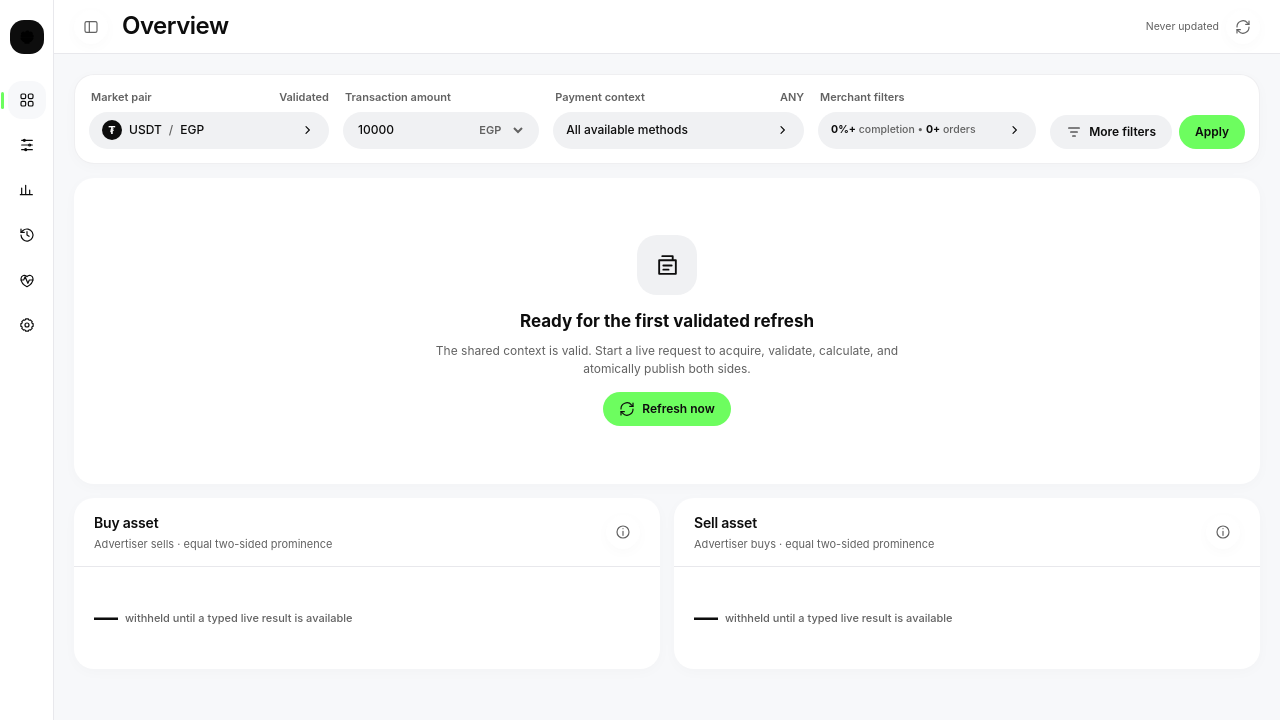
Scenario: approved application shell › keeps the read-only boundary and does not expose navigation links or execution actions
The width and height of the screenshot is (1280, 720).
Check: the heading "Ready for the first validated refresh" is shown, box [520,311,814,331]
Click the button named "explain best eligible buy price": (623, 532) [606,515,640,549]
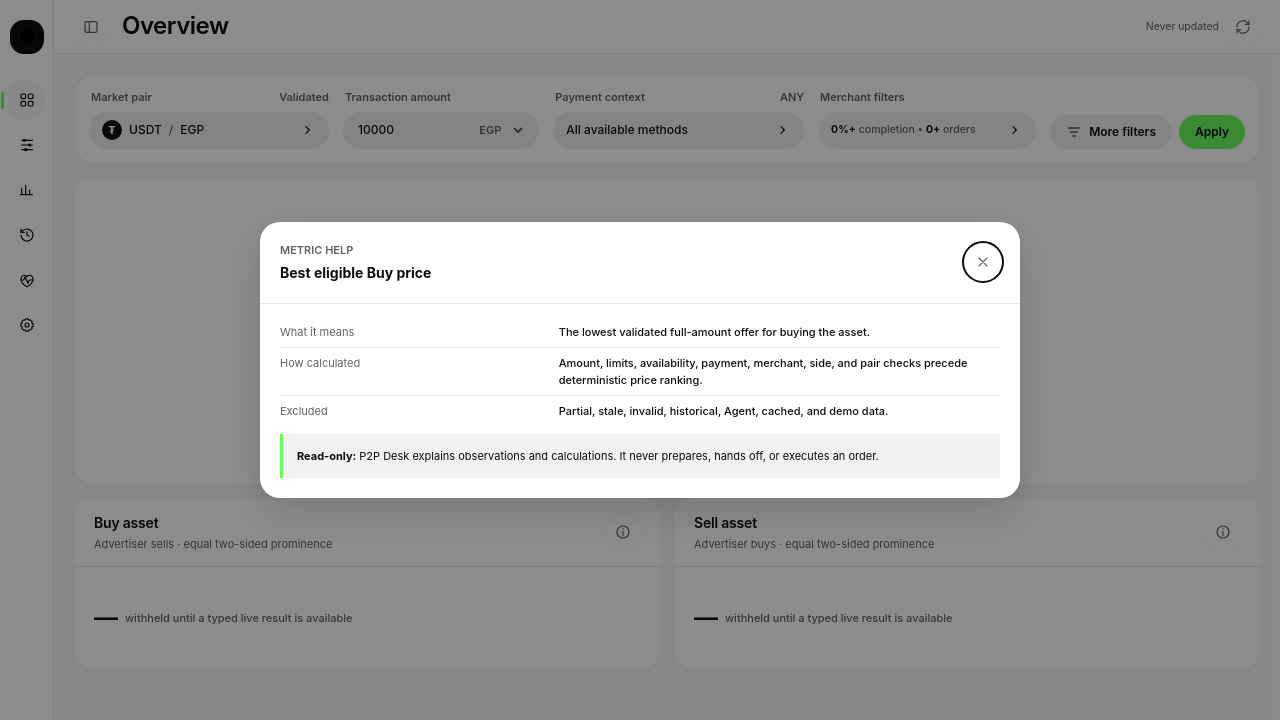
Check: the text "never prepares, hands off, or executes" is shown, box [356,448,879,462]
